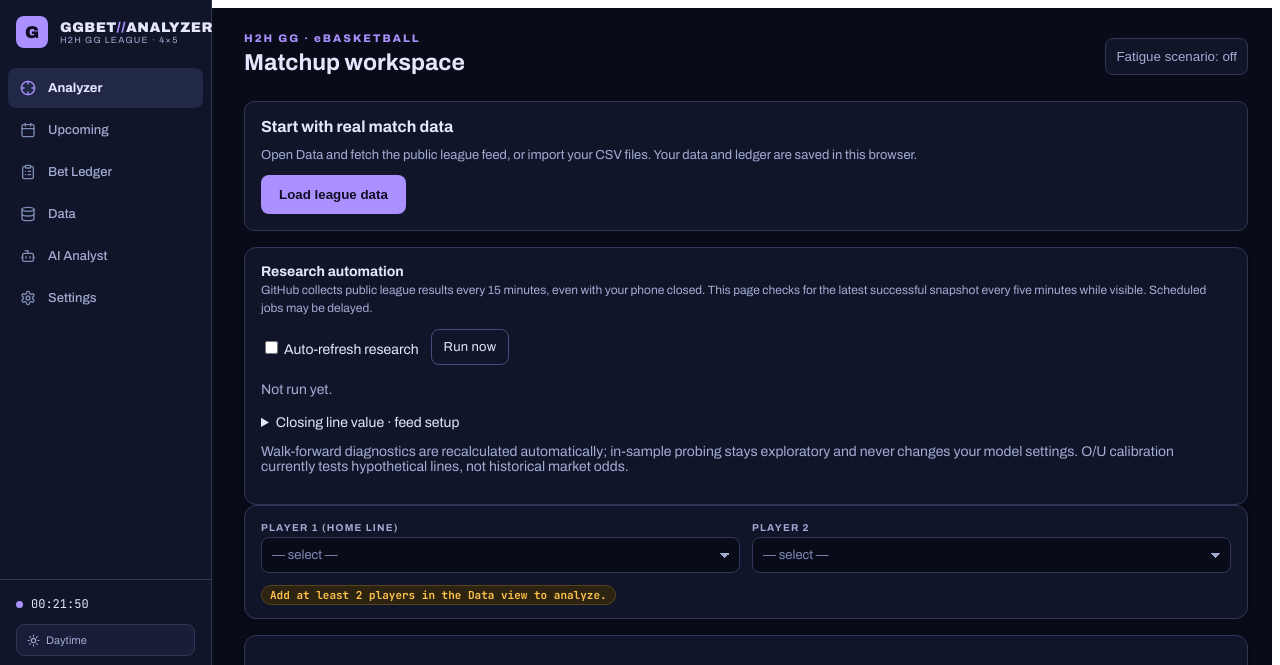
Scenario: app shell › navigates between views
Click the button "Bet Ledger". click: (106, 172)
box: [8, 152, 203, 192]
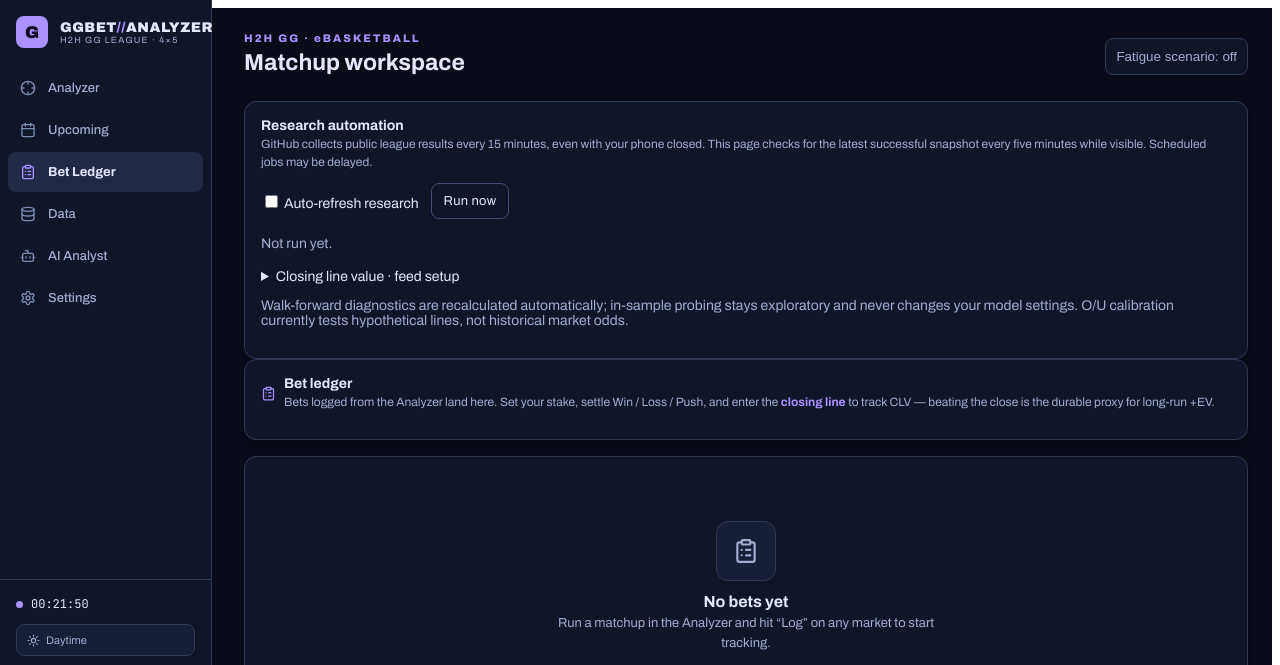
Check: the text "No bets yet" is shown, box [703, 593, 789, 610]
Click the button "Data". click: (106, 214)
box: [8, 194, 203, 234]
(page scrolled)
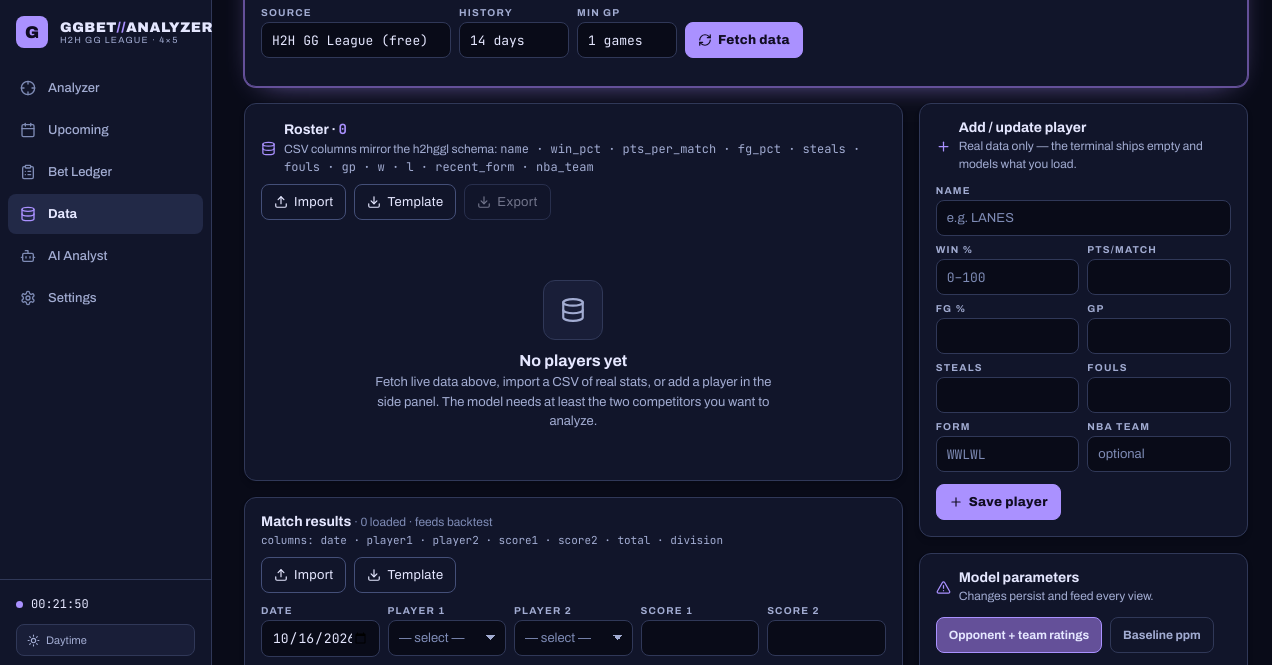
Check: the text "No players yet" is shown, box [519, 352, 627, 369]
